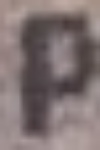P: (0, 0, 99, 149)
